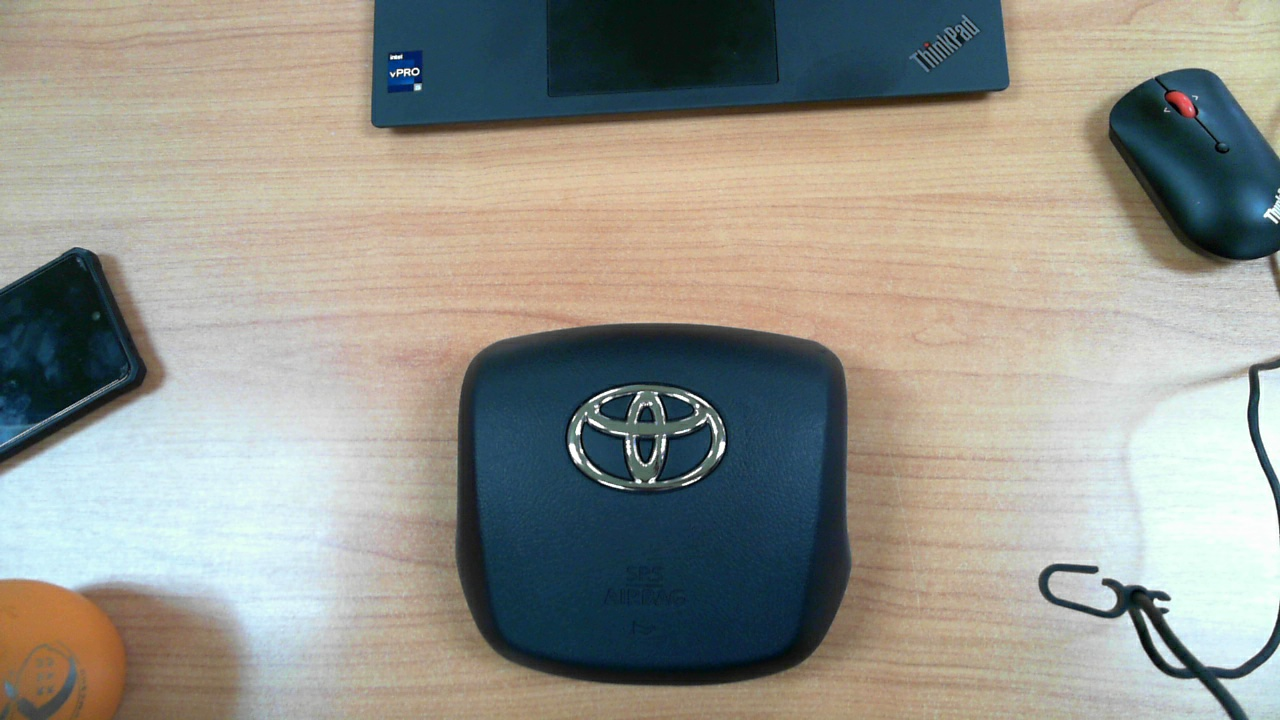Airbag: (430, 303, 876, 703)
